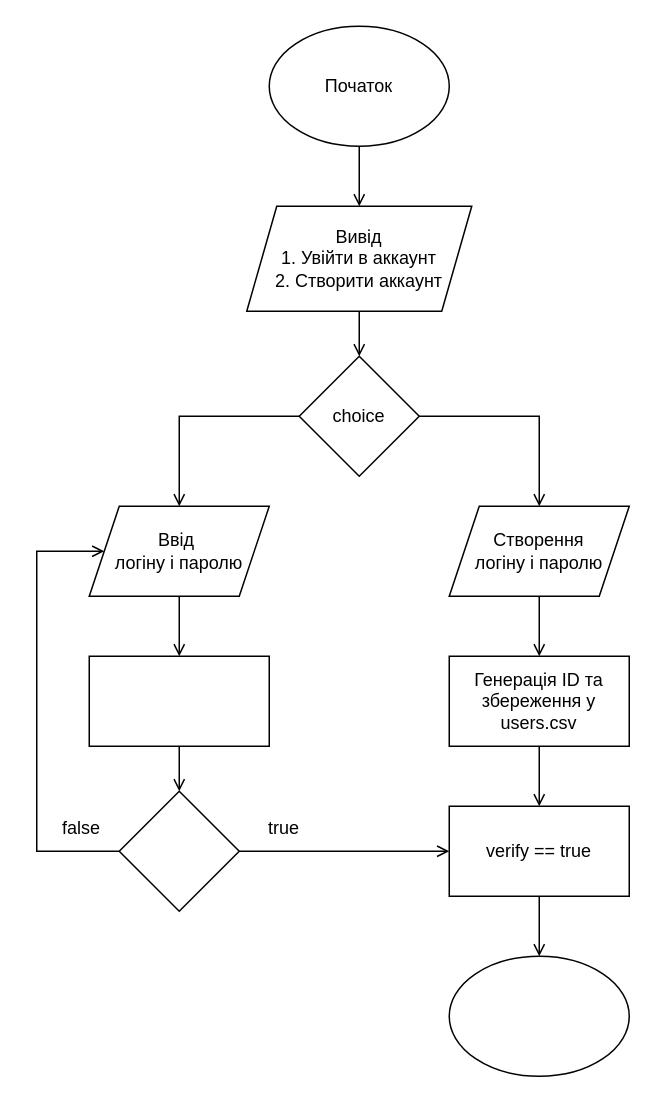
Some shapes in this 656 by 1103 pixel diagram are drawn without their labels. Each missing label, with the centre of its shape:
"Дані вірні?" goes at [178,850].
"Кінець" goes at [538,1015].
"Перевірка даних у файлі users.csv" goes at [178,700].
